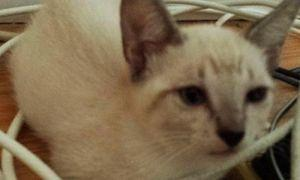siamese: (120, 1, 293, 180)
